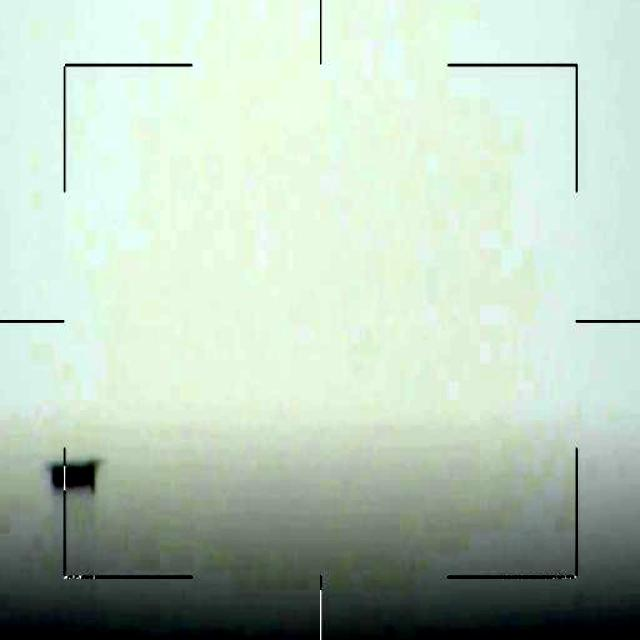bird: (44, 451, 100, 486)
